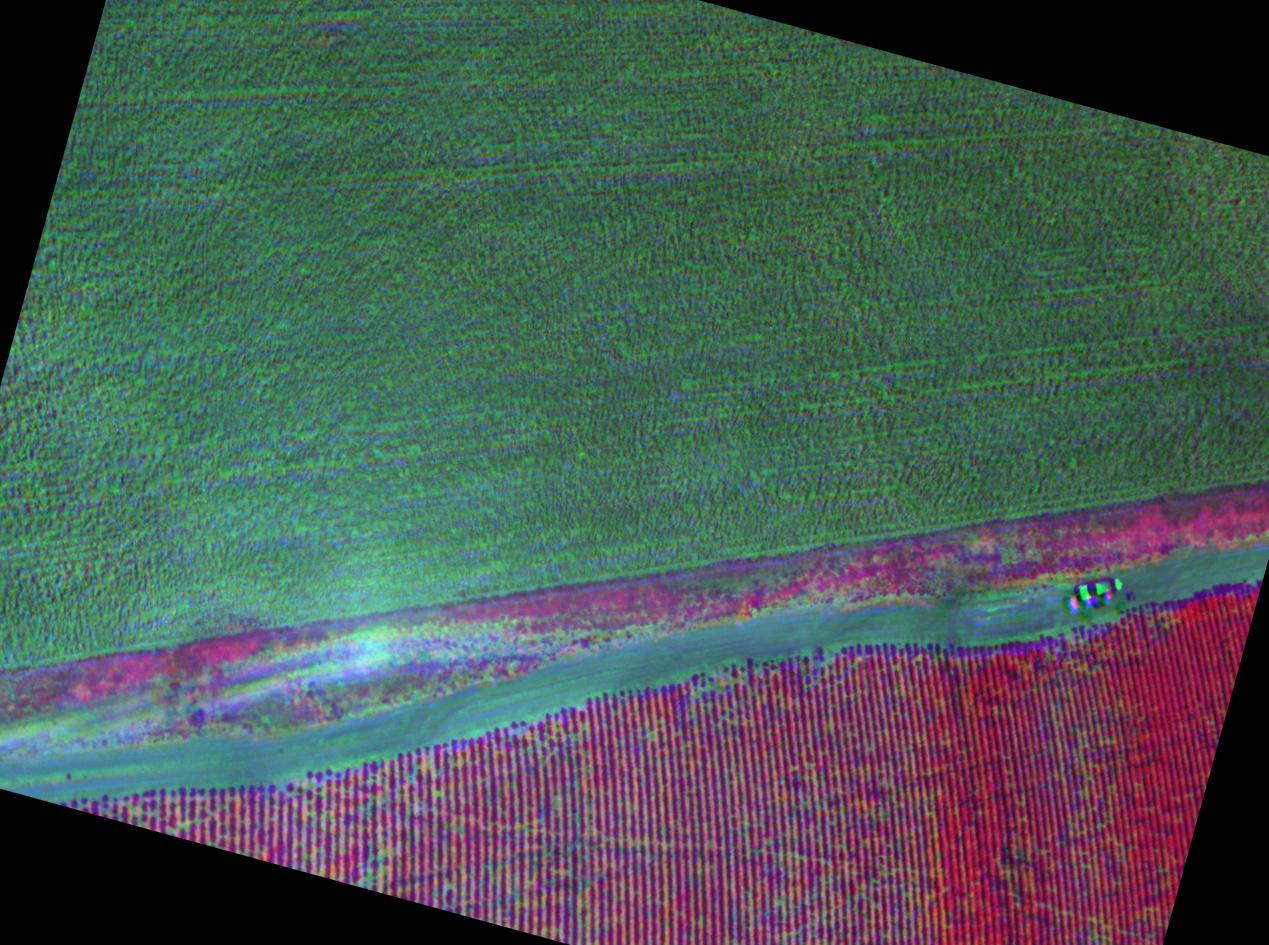dc: (1044, 681, 1124, 767), (330, 814, 396, 887), (1063, 809, 1130, 875), (396, 753, 457, 821), (522, 804, 586, 859), (700, 662, 753, 715), (801, 657, 856, 699)
